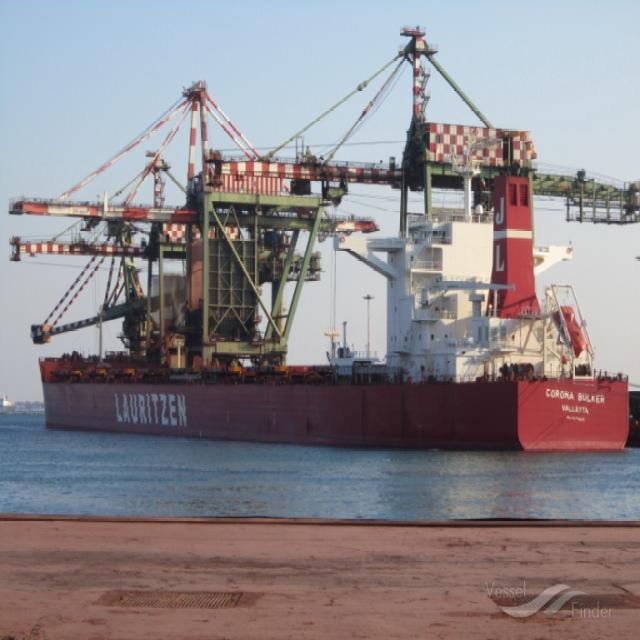OCR: (110, 391, 190, 432), (544, 379, 611, 422)
